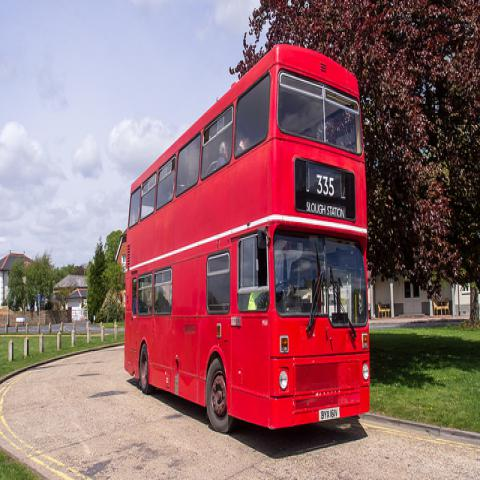bus: (125, 46, 371, 437)
